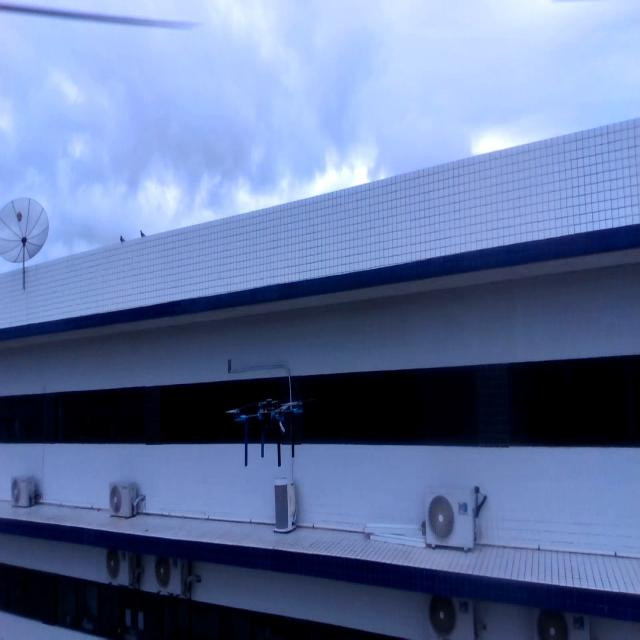-uav-: (220, 378, 312, 471)
